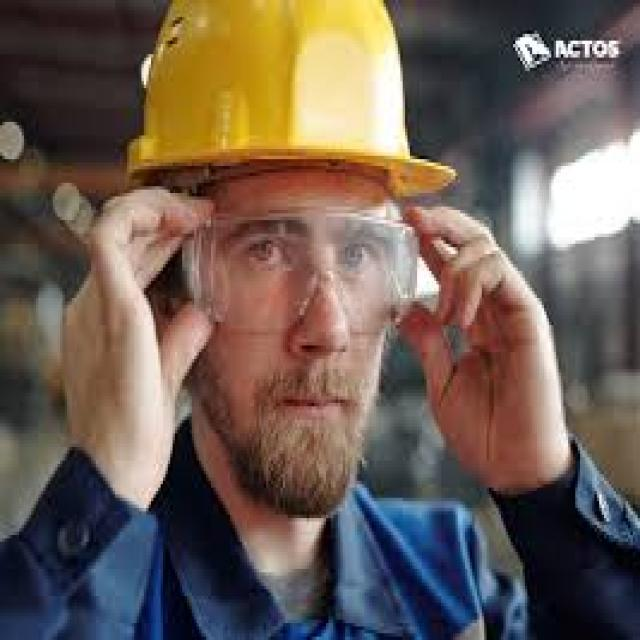oculos-epi: (180, 210, 426, 335)
